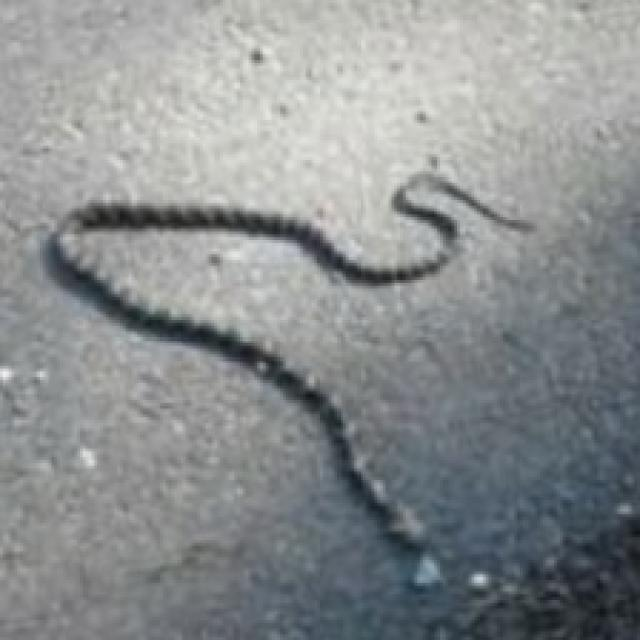king cobra: (57, 171, 531, 591)
